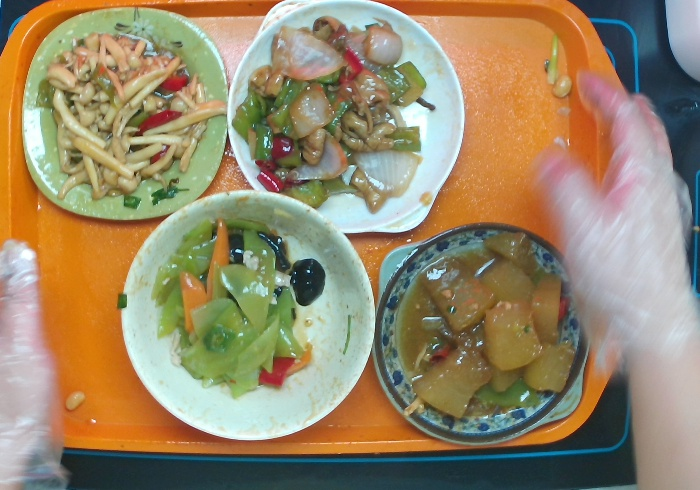NLDX-Bai_Se_Shuang_Er_Die: (223, 1, 467, 237)
NLDX-Bai_Se_Yuan_Wan: (115, 186, 380, 446)
NLDX-Lv_Hua_Fang_Die: (17, 3, 233, 224)
NLDX-Qing_Hua_Shuang_Er_Die: (369, 219, 596, 452)
